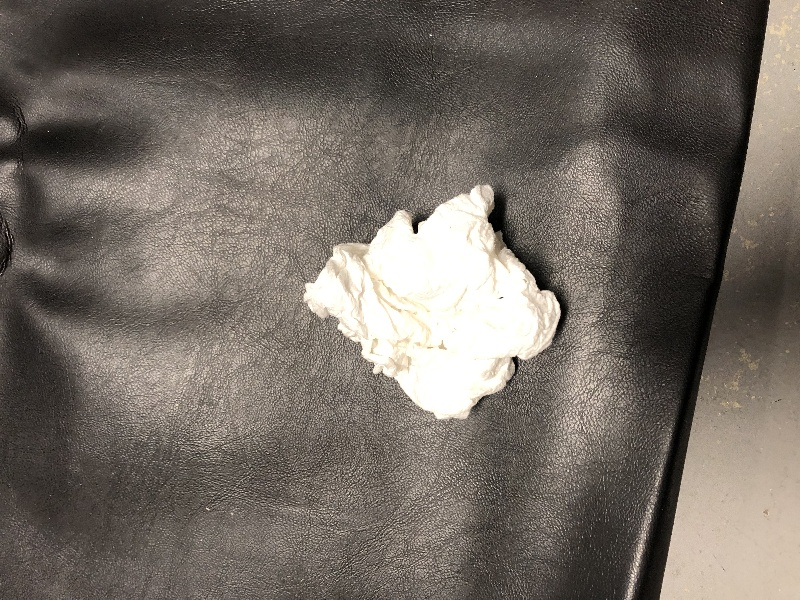paper: (292, 173, 597, 433)
